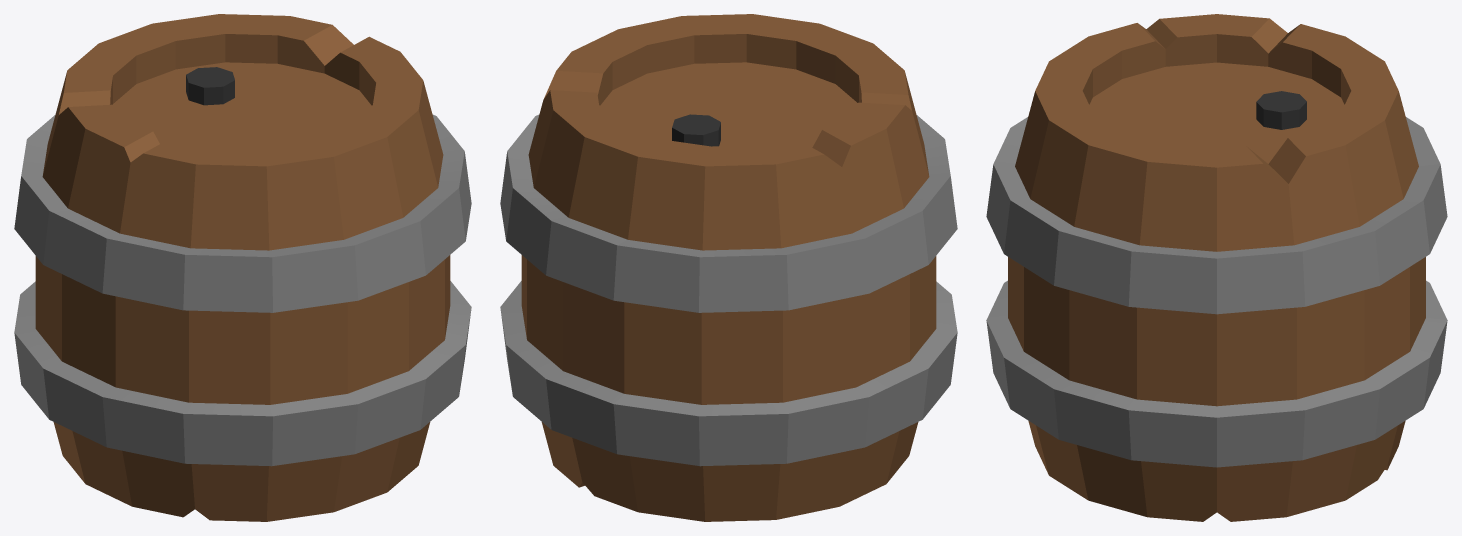
File: barrel.glb
3 views of the same model, side by side, from view 1: azimuth 30°, elevation 25°; view 2: azimuth 150°, elevation 25°; view 3: azimuth 270°, elevation 25° (orthographic).
Visible parts, largest first — view 1: Barrel (1); view 2: Barrel (1); view 3: Barrel (1).
Boxes of the visible parts, box(x1,y1,x2,y2) form: Barrel (1): box(14, 14, 471, 521); Barrel (1): box(500, 14, 957, 521); Barrel (1): box(986, 14, 1447, 521).
Bounding box in the file's own units: 1.45 × 1.23 × 1.45.
